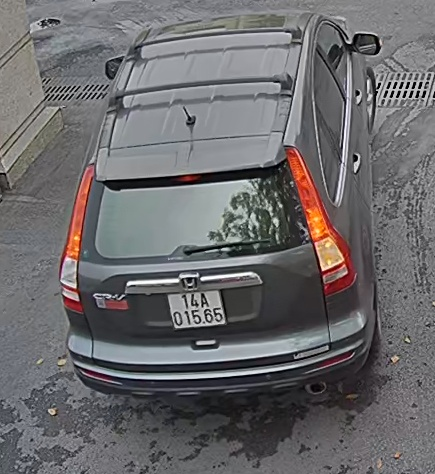vehicle plate: (162, 290, 230, 334)
